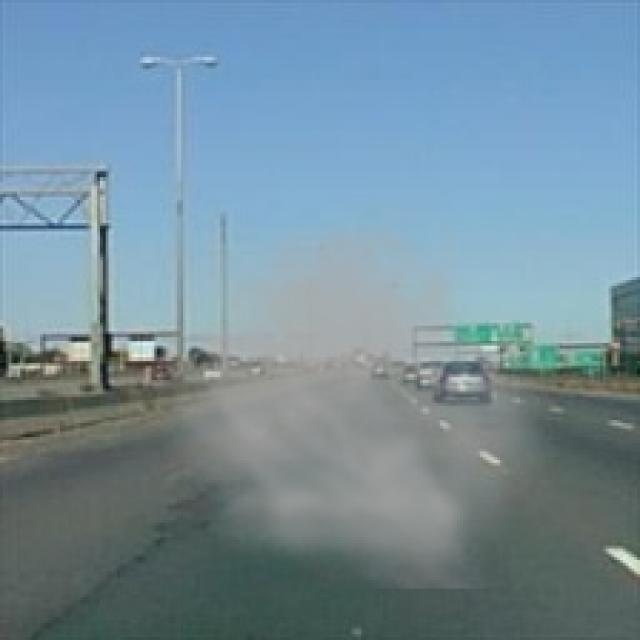Smoke: (140, 180, 566, 589)
